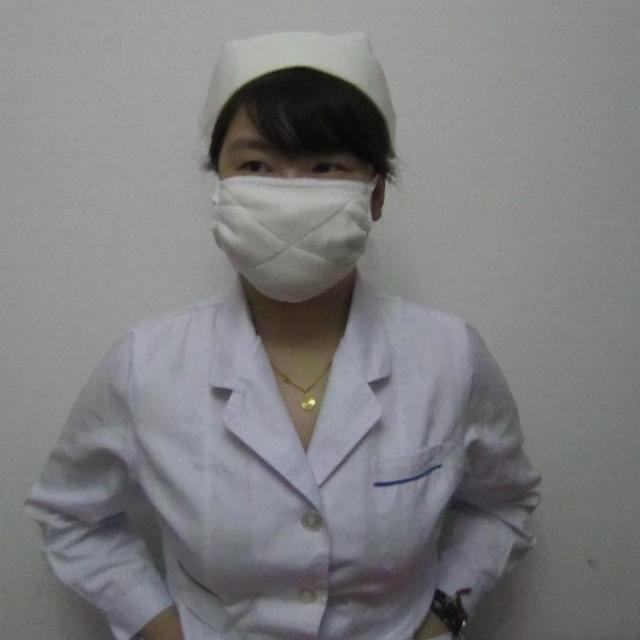mask: (212, 100, 372, 287)
